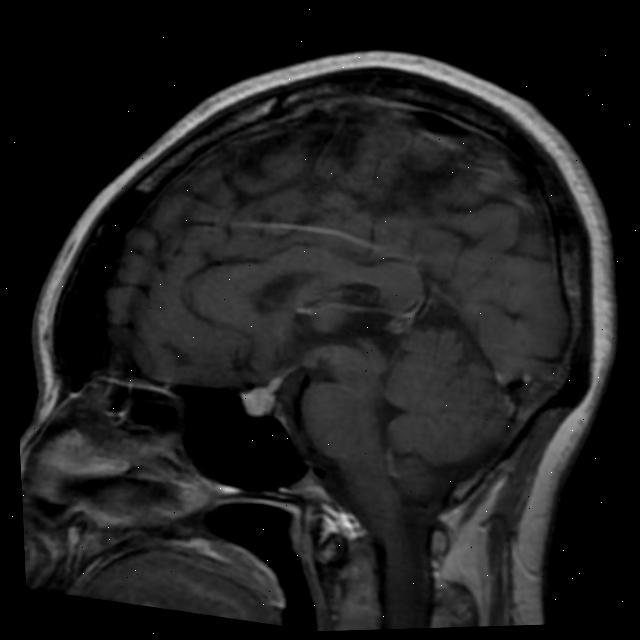Pituitary: (234, 369, 285, 421)
